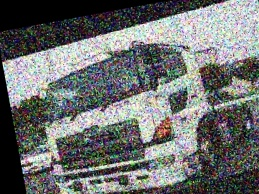truck: (24, 12, 259, 194)
